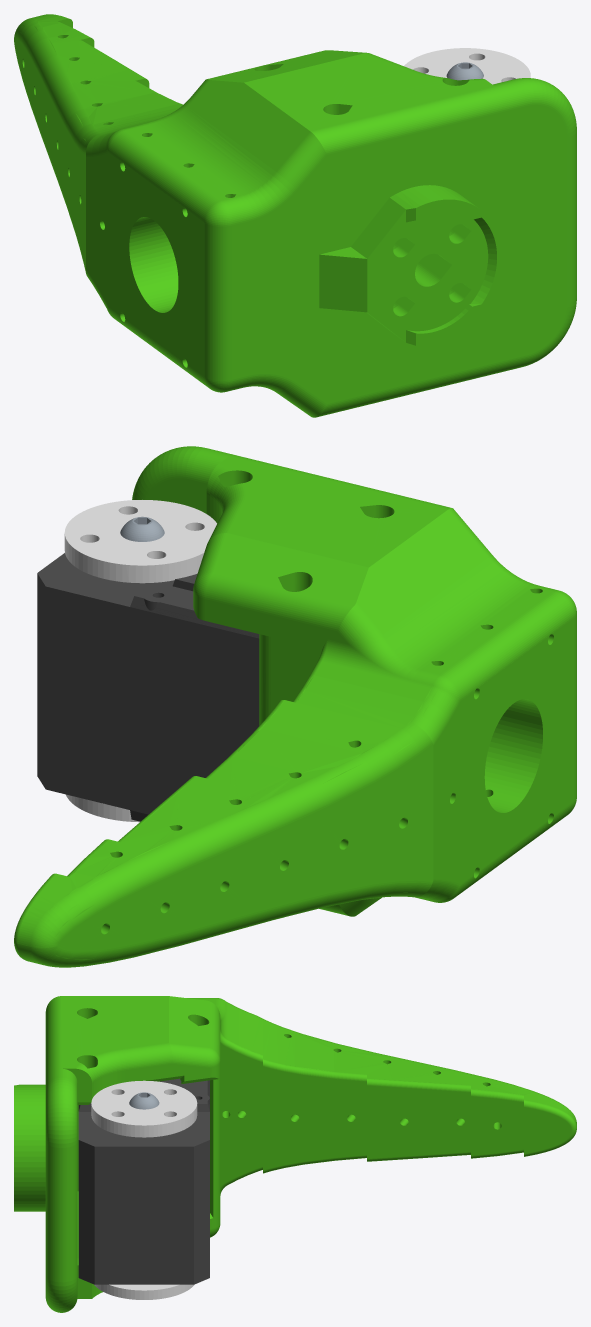
File: arm1_wrist_roll.obj
3 views of the same model, one above another, from view 1: azimuth 30°, elevation 25°; view 2: azimuth 150°, elevation 25°; view 3: azimuth 270°, elevation 25° (orthographic). The views are drawn at different scales.
Visible parts, largest first — view 1: arm1_wrist_roll_wrist_roll_08c_34, arm1_wrist_roll_driven_horn_38, arm1_wrist_roll_socket_button_head_screw_m3x0_5_x_5__3d0b7d67b03; view 2: arm1_wrist_roll_wrist_roll_08c_34, arm1_wrist_roll_sts3215_servo_37, arm1_wrist_roll_driven_horn_38, arm1_wrist_roll_socket_button_head_screw_m3x0_5_x_5__3d0b7d67b03, arm1_wrist_roll_passive_horn_35; view 3: arm1_wrist_roll_wrist_roll_08c_34, arm1_wrist_roll_sts3215_servo_37, arm1_wrist_roll_driven_horn_38, arm1_wrist_roll_passive_horn_35, arm1_wrist_roll_socket_button_head_screw_m3x0_5_x_5__3d0b7d67b03.
Part boxes in pixels (left/top/right/bottom): arm1_wrist_roll_wrist_roll_08c_34: left=14, top=14, right=576, bottom=417; arm1_wrist_roll_driven_horn_38: left=404, top=48, right=530, bottom=84; arm1_wrist_roll_socket_button_head_screw_m3x0_5_x_5__3d0b7d67b03: left=446, top=62, right=483, bottom=80; arm1_wrist_roll_wrist_roll_08c_34: left=14, top=446, right=576, bottom=967; arm1_wrist_roll_sts3215_servo_37: left=37, top=553, right=259, bottom=821; arm1_wrist_roll_driven_horn_38: left=64, top=500, right=216, bottom=583; arm1_wrist_roll_socket_button_head_screw_m3x0_5_x_5__3d0b7d67b03: left=120, top=516, right=164, bottom=541; arm1_wrist_roll_passive_horn_35: left=65, top=794, right=139, bottom=822; arm1_wrist_roll_wrist_roll_08c_34: left=14, top=996, right=576, bottom=1312; arm1_wrist_roll_sts3215_servo_37: left=78, top=1078, right=209, bottom=1284; arm1_wrist_roll_driven_horn_38: left=91, top=1080, right=197, bottom=1137; arm1_wrist_roll_passive_horn_35: left=94, top=1284, right=194, bottom=1299; arm1_wrist_roll_socket_button_head_screw_m3x0_5_x_5__3d0b7d67b03: left=129, top=1092, right=159, bottom=1109.
Size of the model in its own units: 0.0652 by 0.048 by 0.1064.
